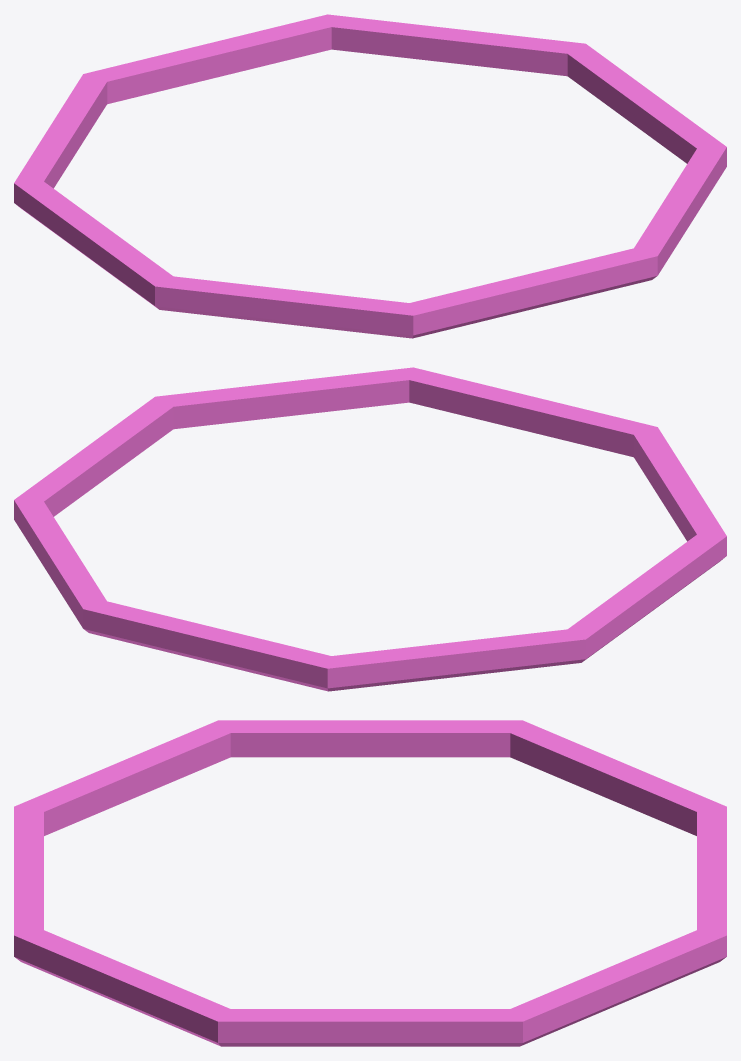
Rendered from SM_Tower_Round_7m_Trim_Stone_Fantasy.fbx.
3 views of the same model, one above another, from view 1: azimuth 30°, elevation 25°; view 2: azimuth 150°, elevation 25°; view 3: azimuth 270°, elevation 25° (orthographic). The views are drawn at different scales.
Parts seen in each view (by area): view 1: SM_Tower_Round_7m_Trim_Stone_Fantasy; view 2: SM_Tower_Round_7m_Trim_Stone_Fantasy; view 3: SM_Tower_Round_7m_Trim_Stone_Fantasy.
Boxes of the visible parts, box(x1,y1,x2,y2) form: SM_Tower_Round_7m_Trim_Stone_Fantasy: box(14, 14, 726, 338); SM_Tower_Round_7m_Trim_Stone_Fantasy: box(14, 367, 726, 691); SM_Tower_Round_7m_Trim_Stone_Fantasy: box(14, 720, 726, 1046).
Bounding box in the file's own units: 7.65 × 0.3294 × 7.65.
